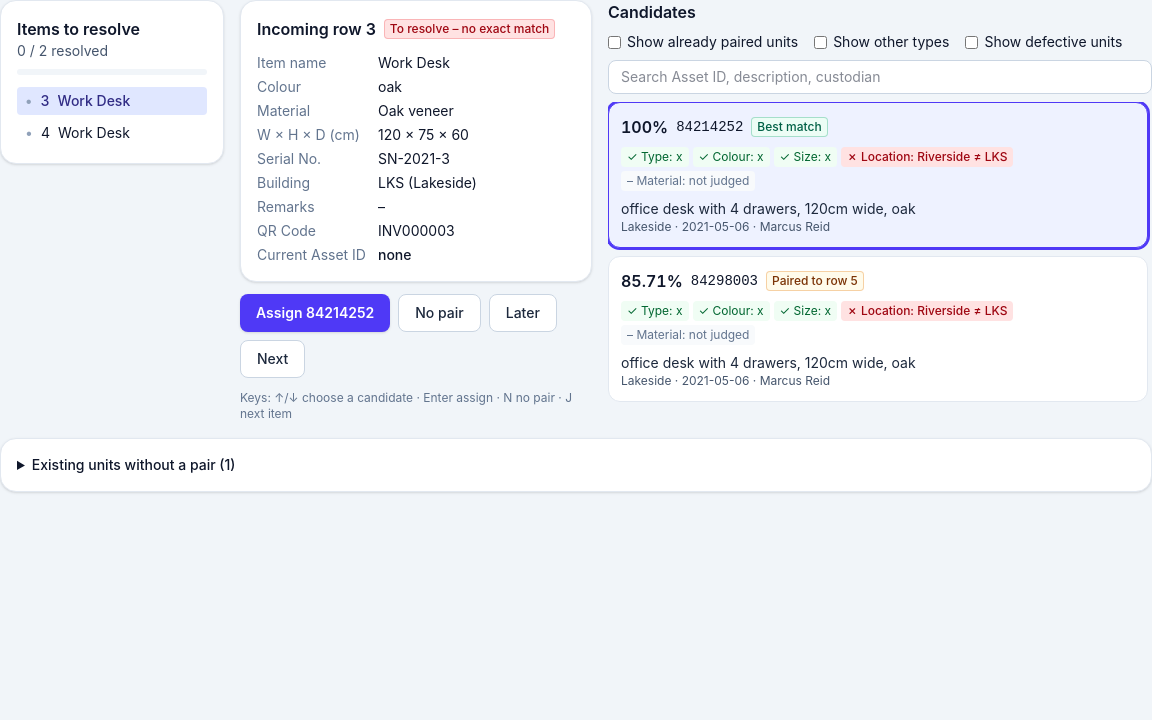
Test case: a swap asks first, then releases the other row
The image size is (1152, 720).
Step 1. Click the button with test id "candidate" that starts with "Paired to row 5" → (644, 281), box [608,256,1148,402]
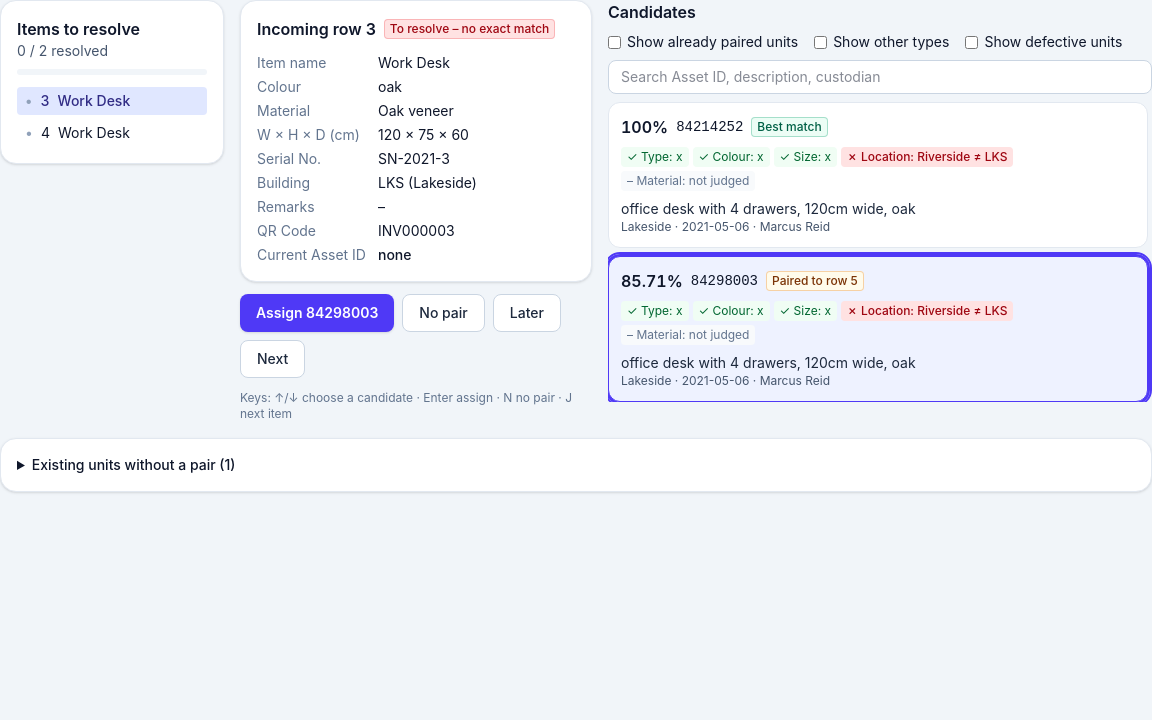
Step 2. Click the button "Assign 84298003" → (317, 313), box [240,294,394,332]
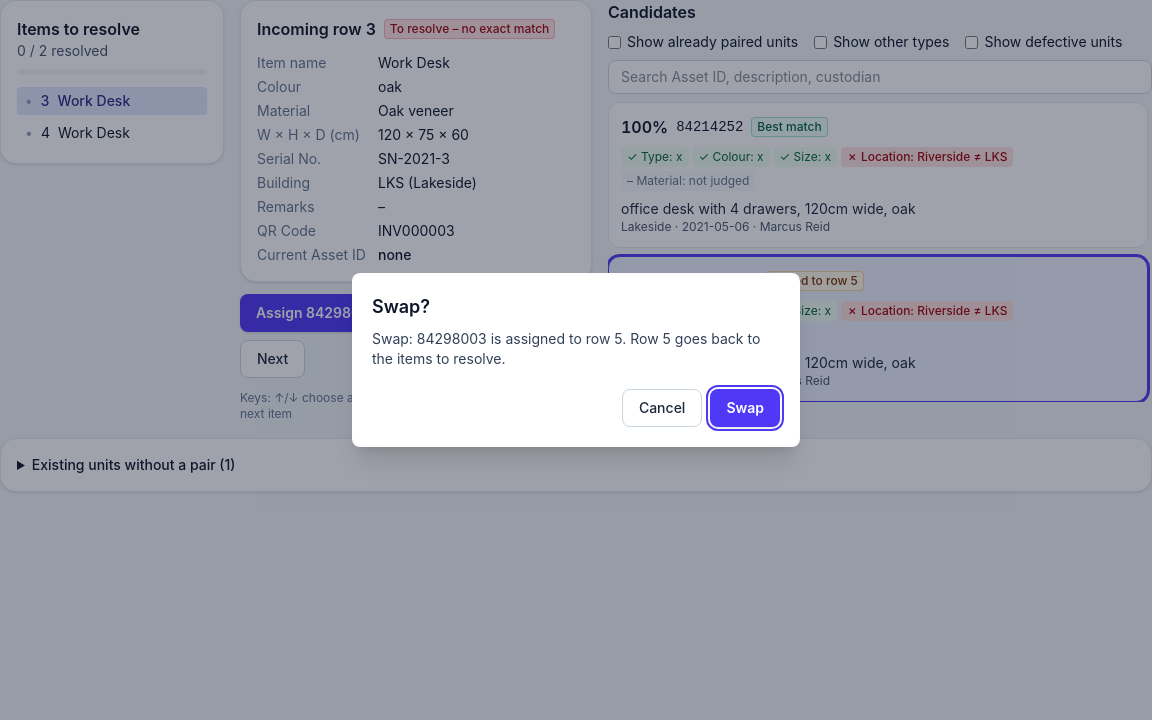
expect the dialog shows "Swap: 84298003 is assigned to row 5. Row 5 goes back to the items to resolve.": met, box [372,330,760,367]
Step 3. Click the button "Swap" → (745, 408), box [710,389,780,427]
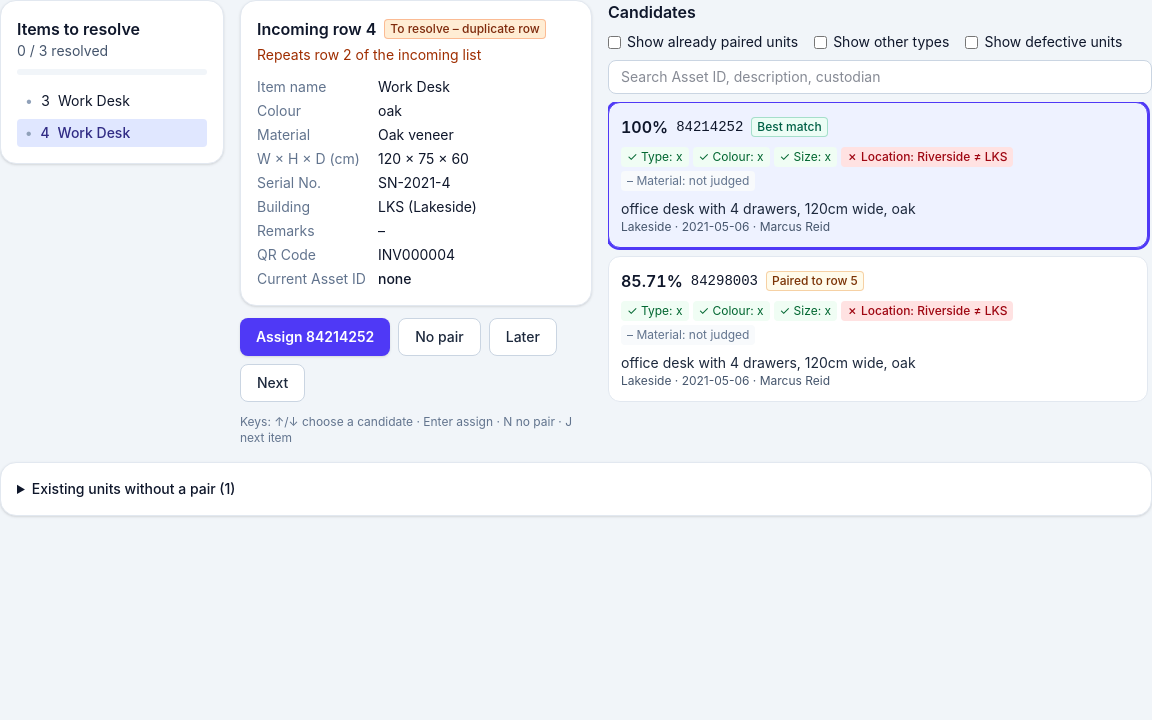
expect the dialog is gone: met
